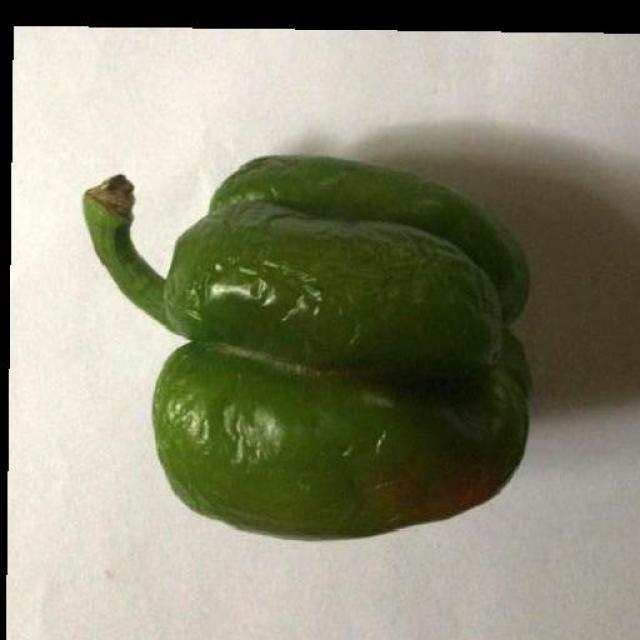Stale_Capsicum: (131, 148, 539, 521)
